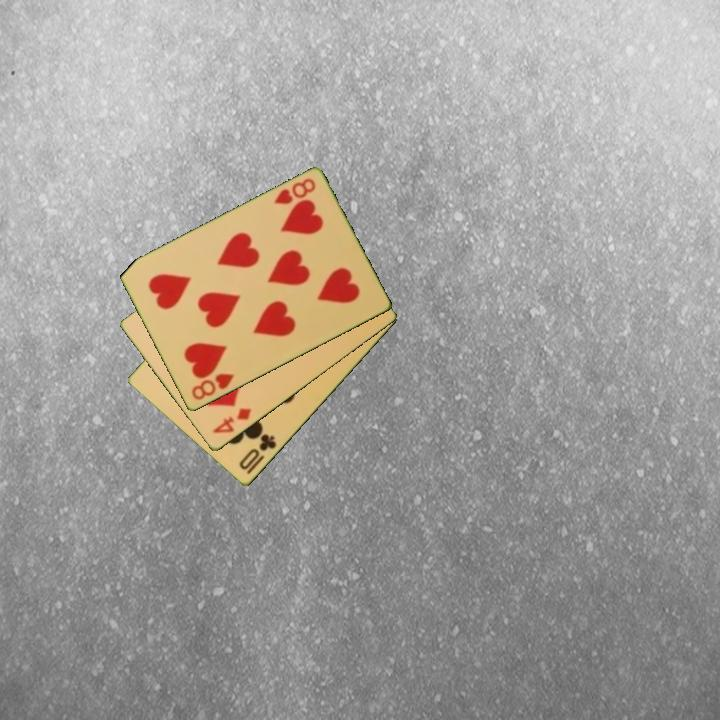10c: (236, 431, 280, 473)
4d: (209, 405, 254, 437)
8h: (187, 370, 237, 403), (270, 175, 319, 208)
